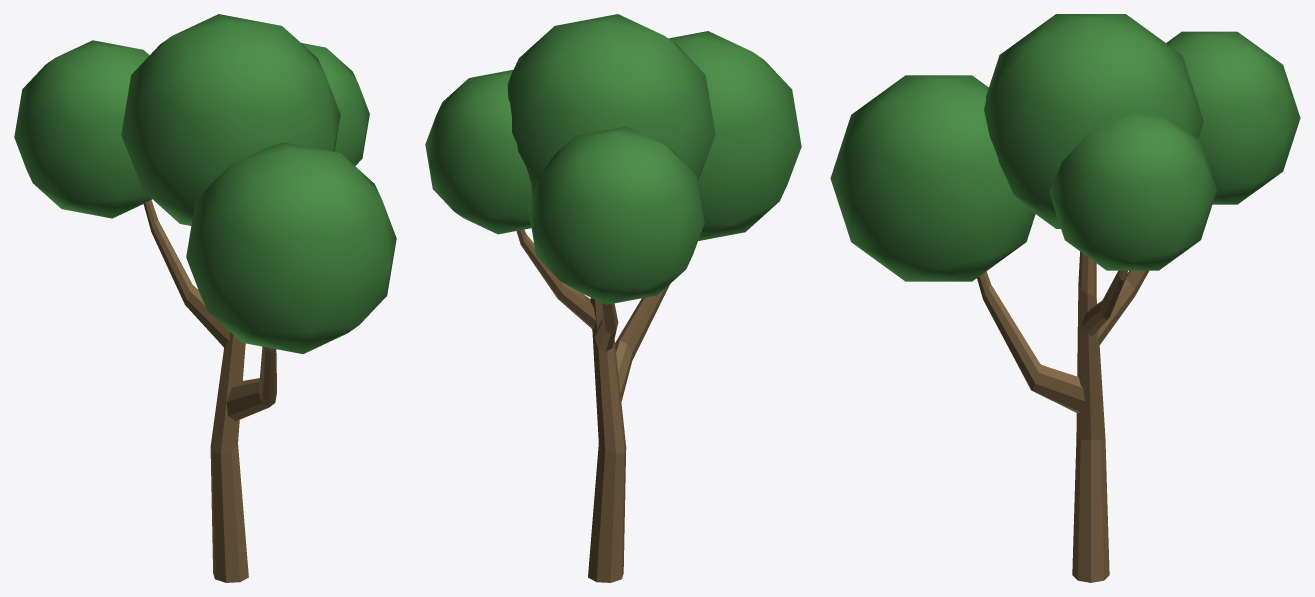
File: Tree.glb
The picture shows the model from 3 angles, left to right: view 1: azimuth 30°, elevation 25°; view 2: azimuth 150°, elevation 25°; view 3: azimuth 270°, elevation 25°; orthographic projection.
Visible parts, largest first — view 1: Cylinder; view 2: Cylinder; view 3: Cylinder.
Part boxes in pixels (x1,y1,x2,y2): Cylinder: (14,14,396,582); Cylinder: (425,14,801,582); Cylinder: (830,14,1300,582).
Size of the model in its own units: 2.28 by 4.13 by 3.17.
